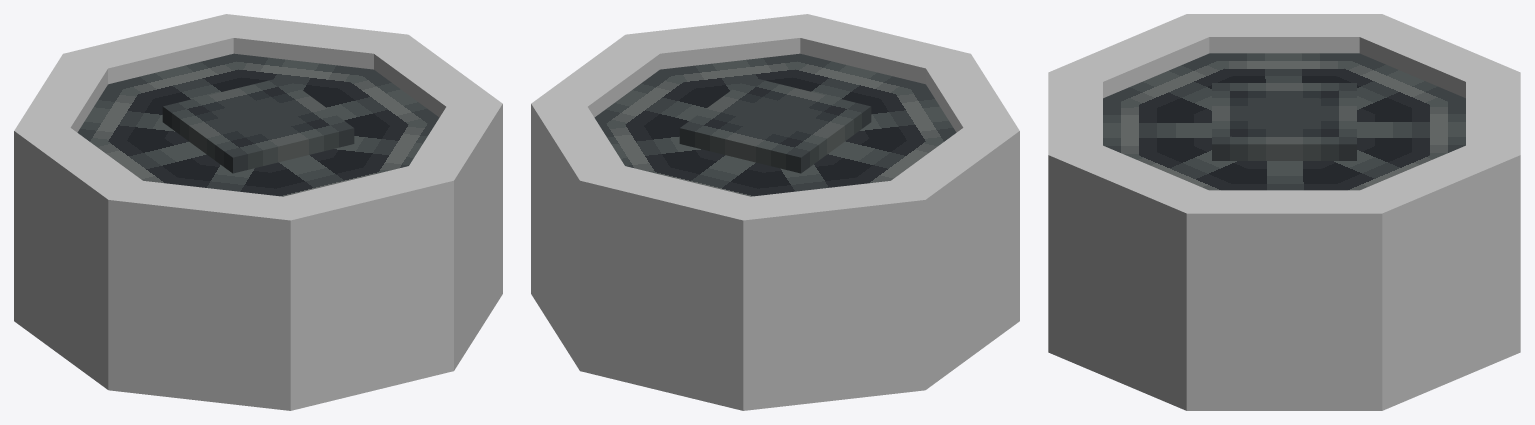
File: small_wheel.obj
3 renders of one model, left to right at view 1: azimuth 30°, elevation 25°; view 2: azimuth 150°, elevation 25°; view 3: azimuth 270°, elevation 25°, orthographic. The views are drawn at different scales.
Visible parts, largest first — view 1: cube; view 2: cube; view 3: cube.
Boxes of the visible parts, x1,y1,x2,y2 form: cube: (14, 14, 502, 410); cube: (531, 14, 1019, 410); cube: (1048, 14, 1520, 410).
Size of the model in its own units: 1.63 by 0.75 by 1.63.
